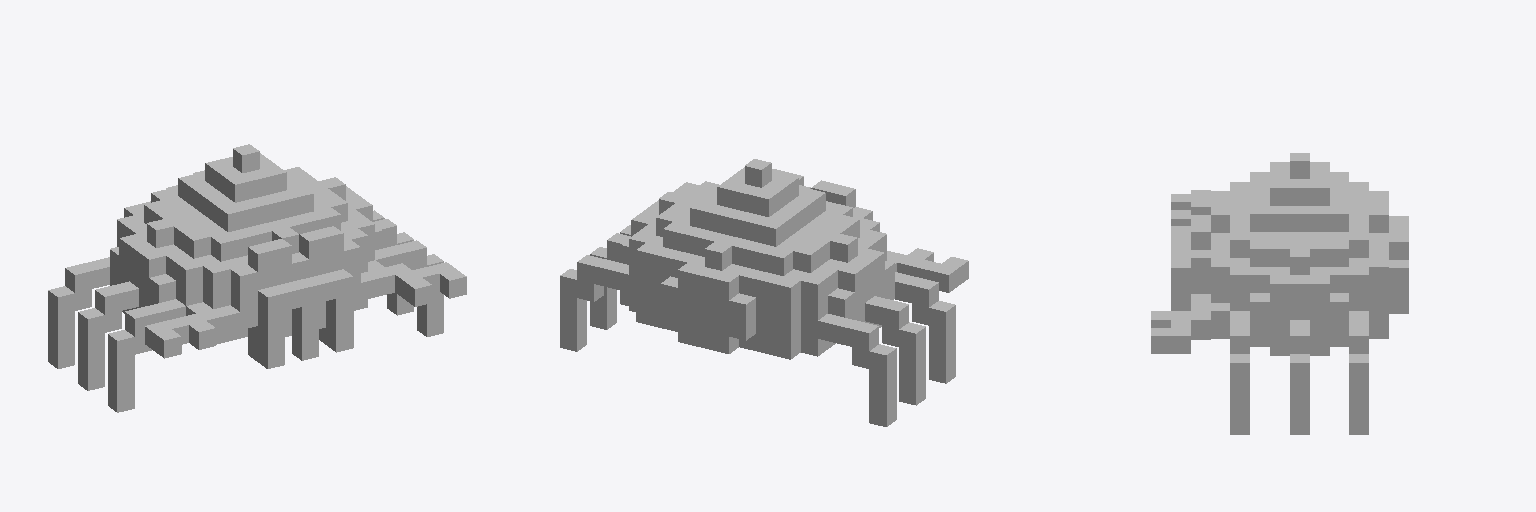
File: Crab 4.obj
The picture shows the model from 3 angles: view 1: azimuth 30°, elevation 25°; view 2: azimuth 150°, elevation 25°; view 3: azimuth 270°, elevation 25°; orthographic projection.
Parts seen in each view (by area): view 1: object 1; view 2: object 1; view 3: object 1.
Part boxes in pixels (x1,y1,x2,y2): object 1: (48, 144, 466, 412); object 1: (560, 159, 968, 426); object 1: (1151, 153, 1408, 434).
Bounding box in the file's own units: 1.9 × 1.1 × 1.3.